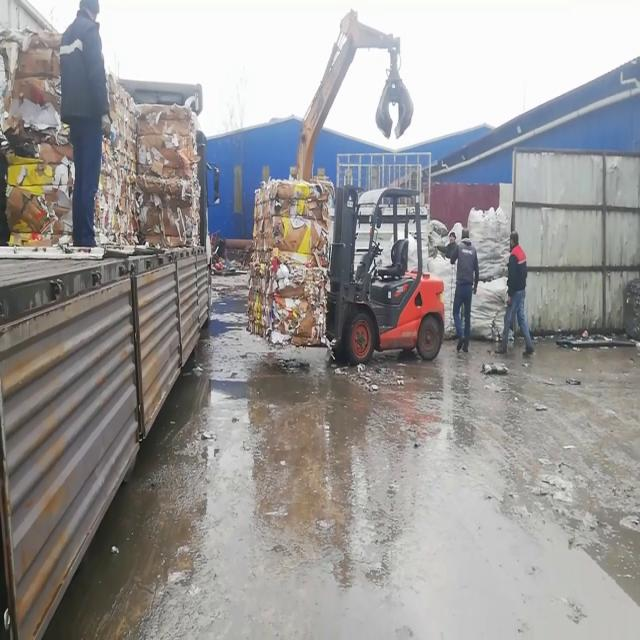Chariot elevateur: (322, 176, 448, 379)
